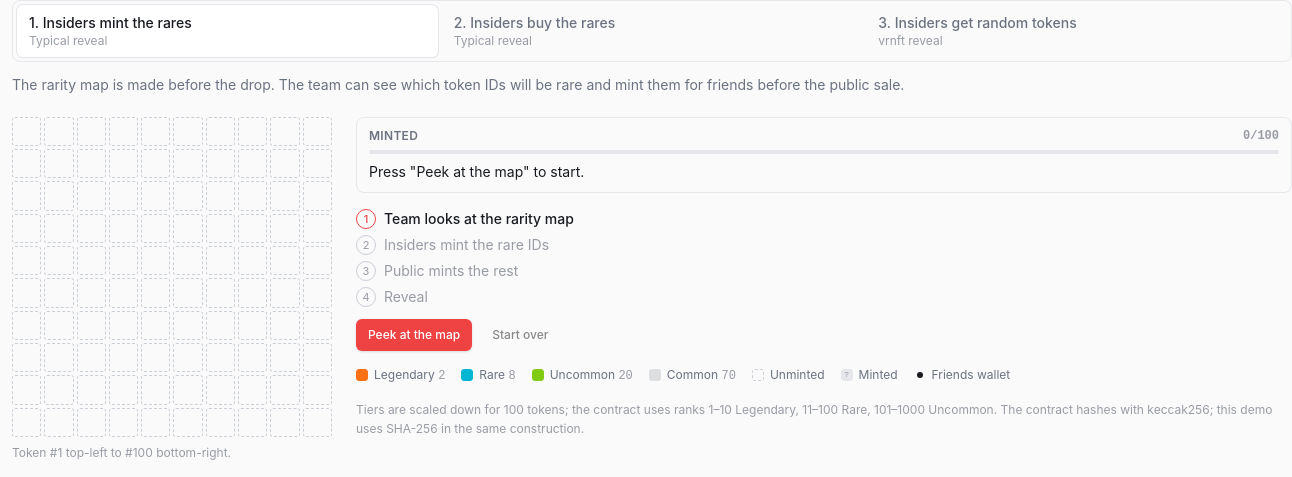
RevealSimulator › scenario 2: insiders buy the rares on OpenSea after the public mints out
Click the button "2. Insiders buy the rares Typical reveal". click: coordinates (543, 22)
box: [442,5,862,57]
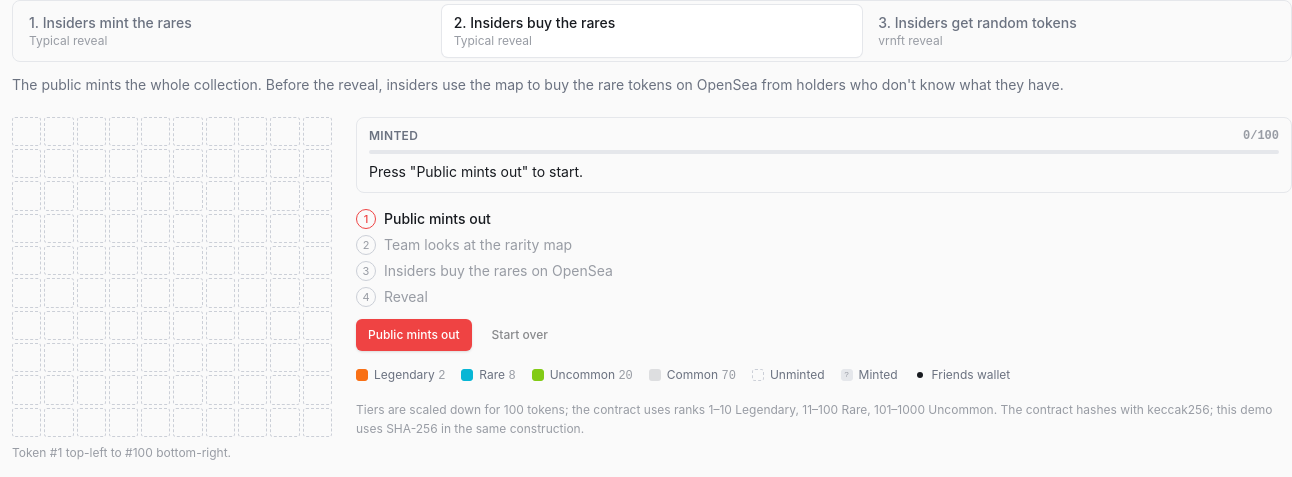
Click the button "Public mints out". click: coordinates (414, 335)
box: [356,319,472,351]
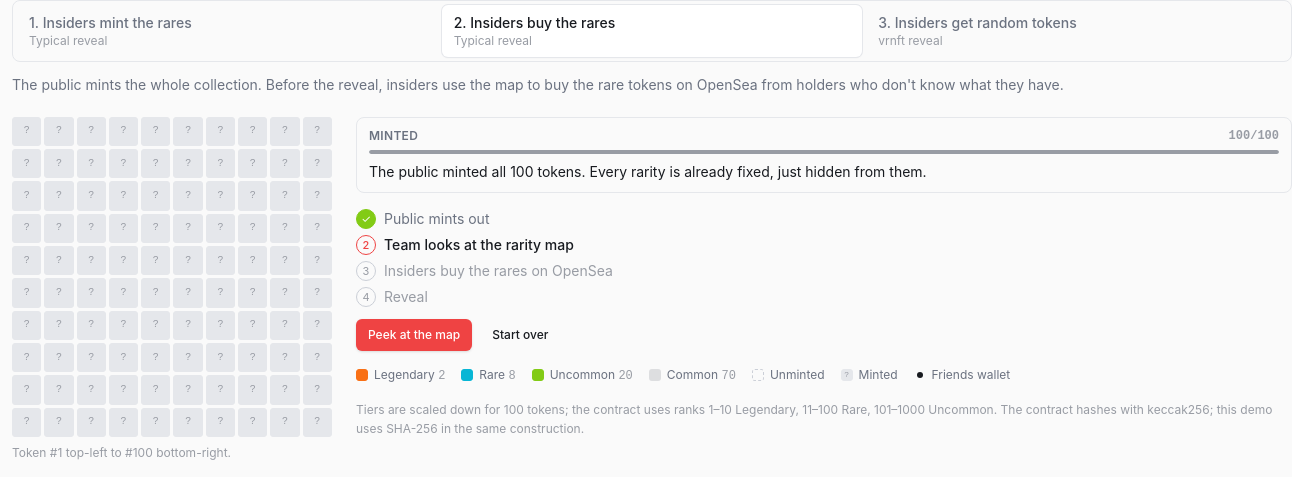
Expected: the text "The public minted all 100 tokens" is shown, [369,163,927,180]
Click the button "Peek at the map". click: coordinates (414, 335)
box: [356,319,472,351]
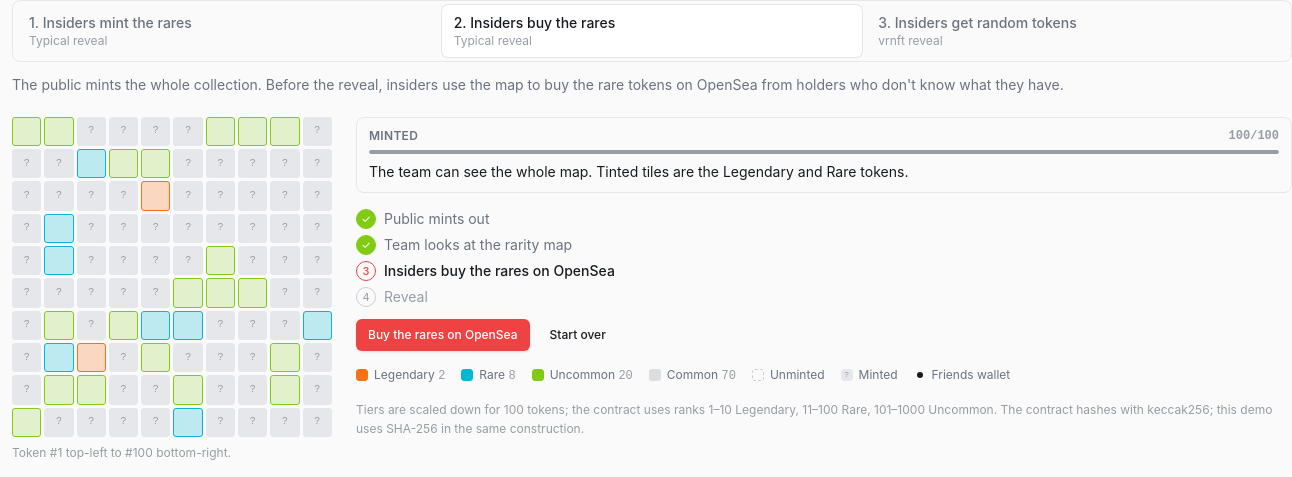
Click the button "Buy the rares on OpenSea". click: coordinates (443, 335)
box: [356,319,530,351]
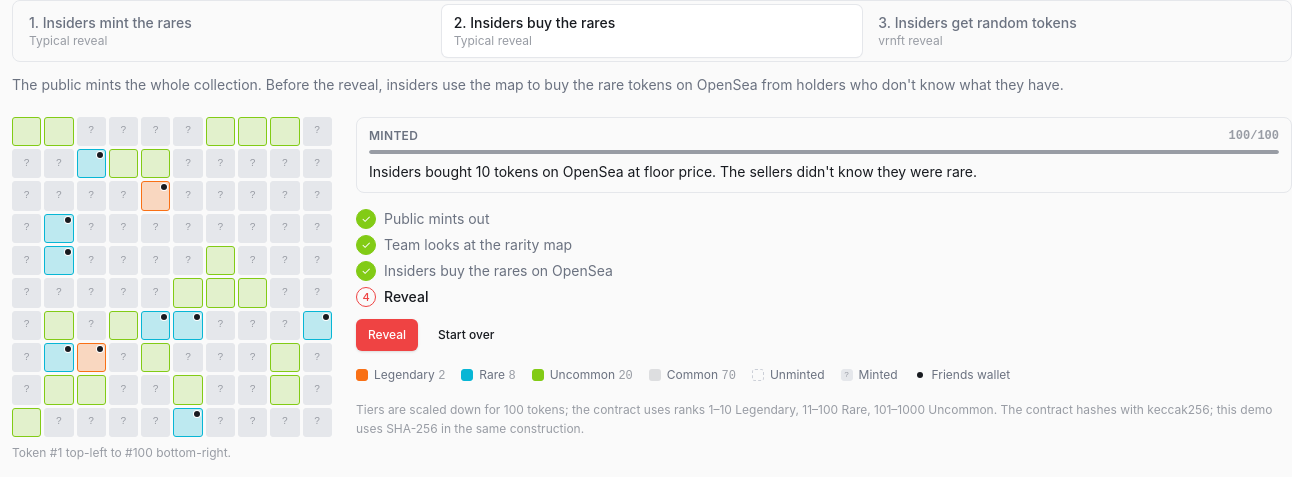
Expected: the text "Insiders bought 10 tokens on OpenSea" is shown, [369,163,977,180]
Click the button "Reveal". click: coordinates (387, 335)
box: [356,319,418,351]
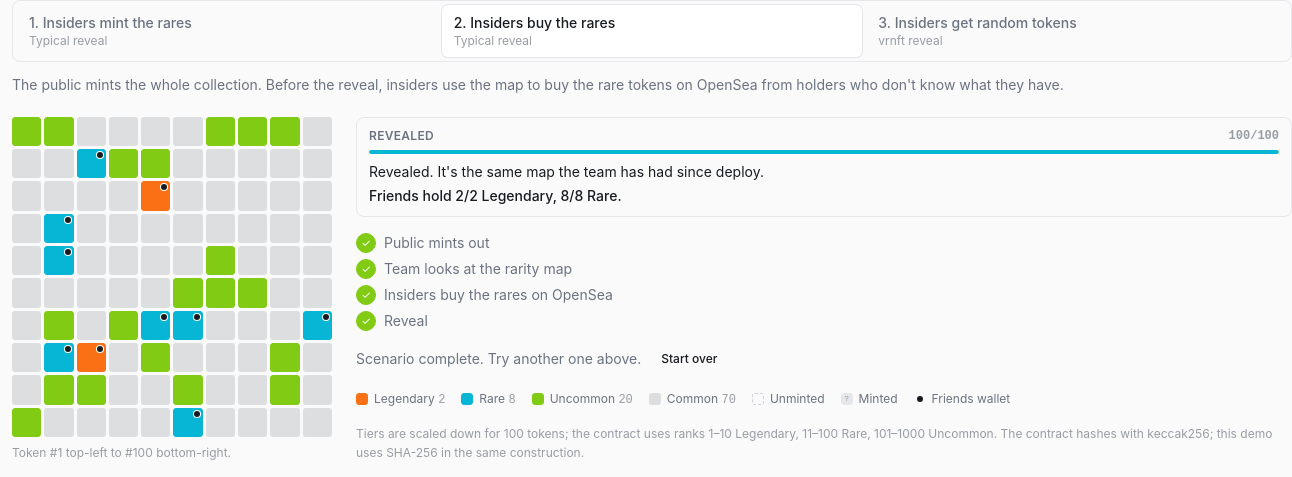
Expected: the text "Friends hold 2/2 Legendary, 8/8 Rare." is shown, [369,187,622,204]
